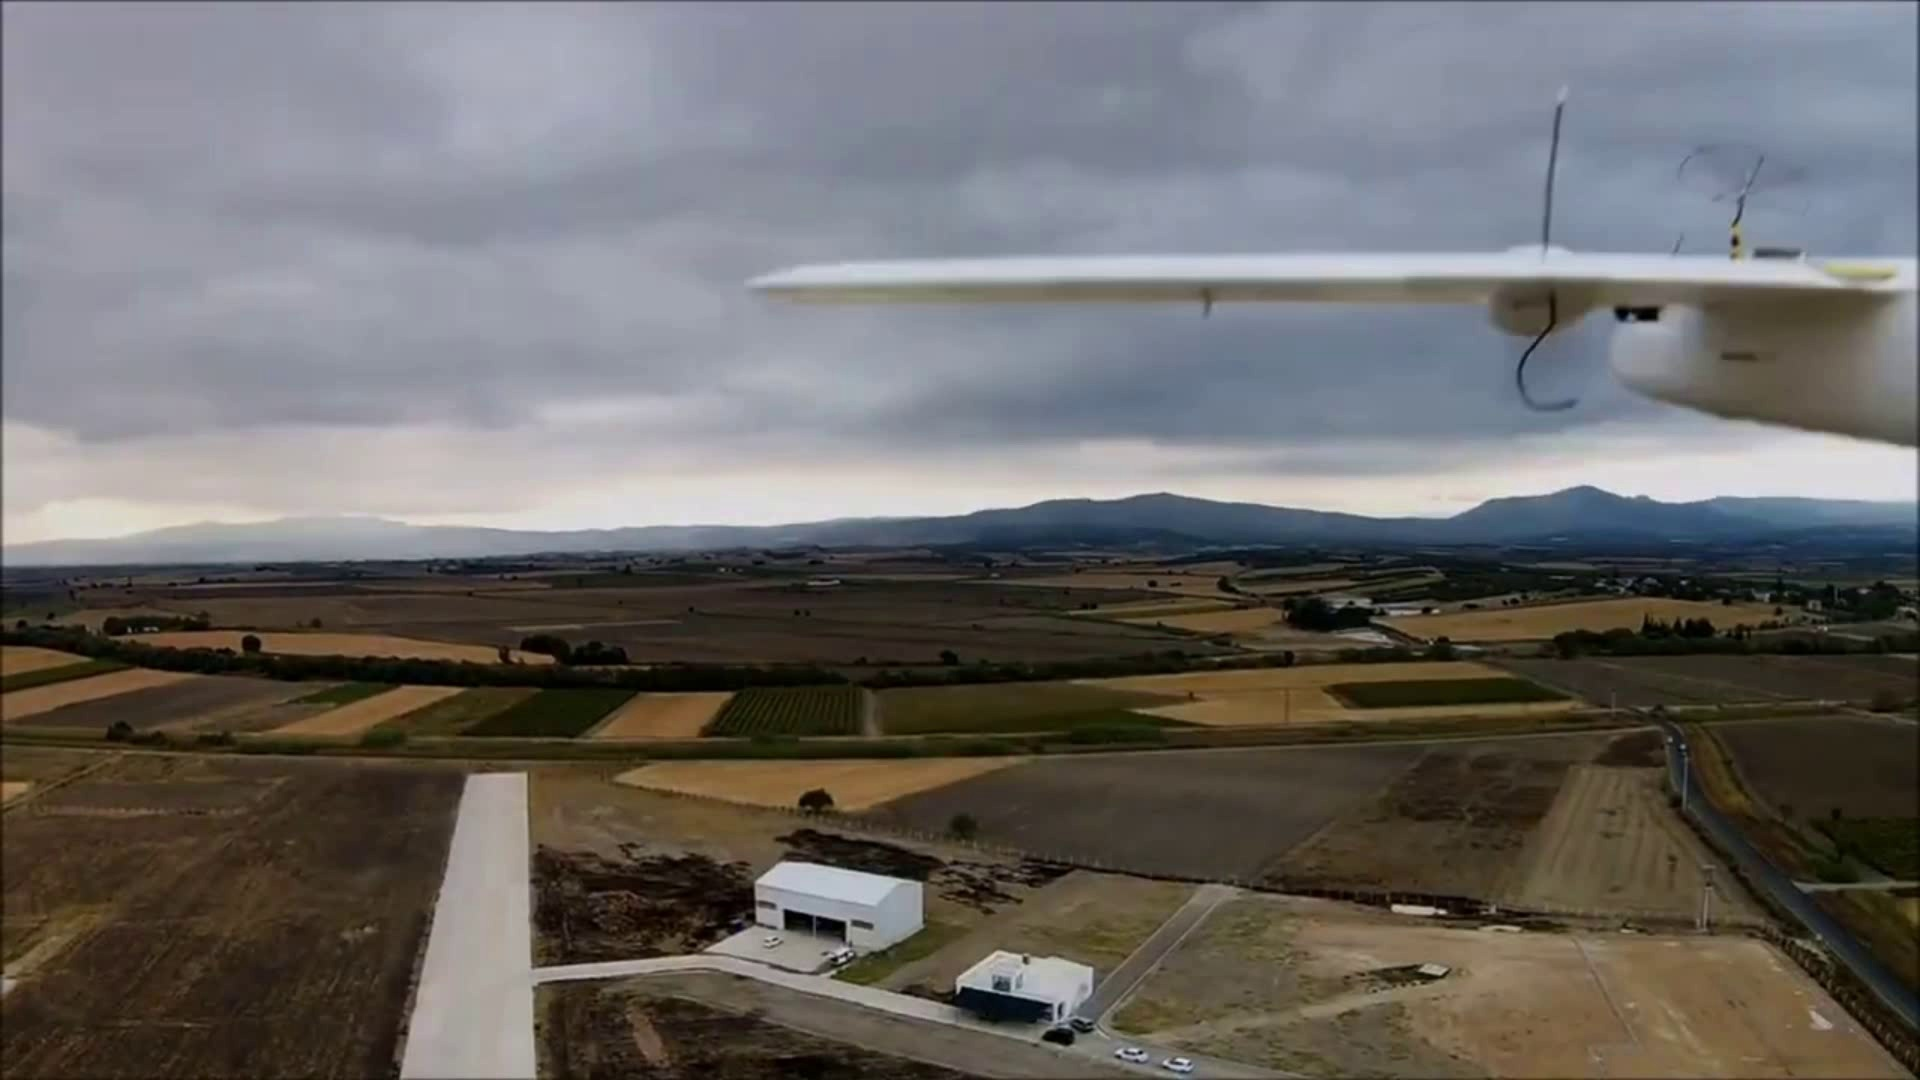airplane: (756, 79, 1916, 458)
